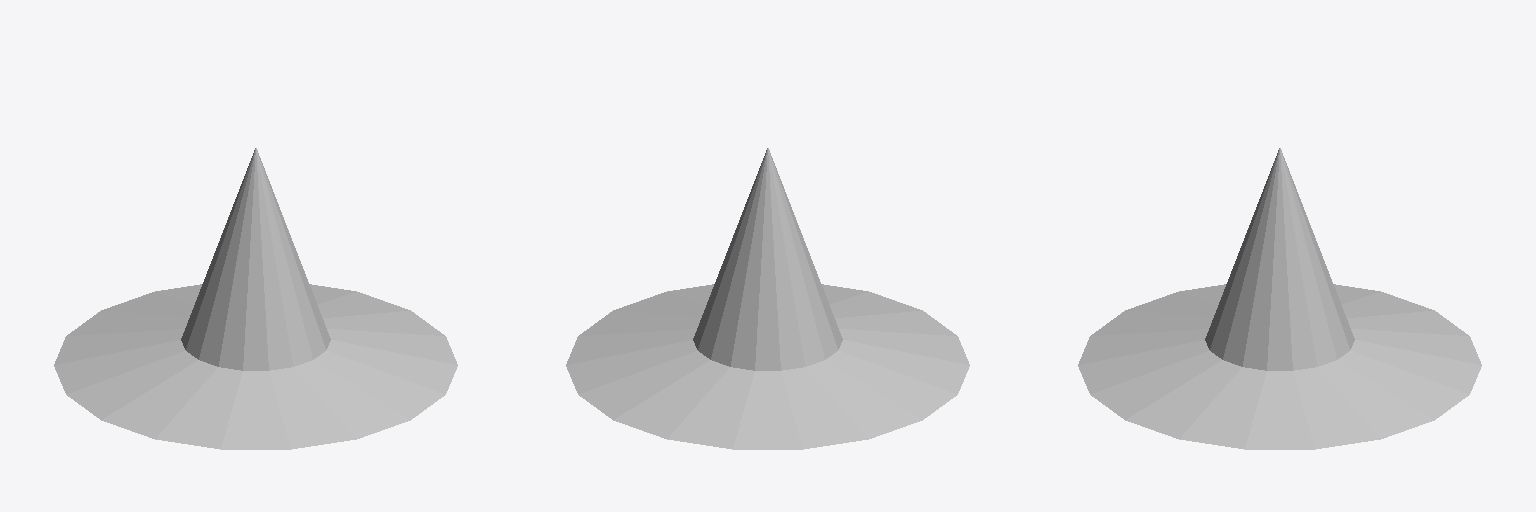
File: MOTL_Player_Hat.obj
The picture shows the model from 3 angles: view 1: azimuth 30°, elevation 25°; view 2: azimuth 150°, elevation 25°; view 3: azimuth 270°, elevation 25°; orthographic projection.
Visible parts, largest first — view 1: Circle; view 2: Circle; view 3: Circle.
Boxes of the visible parts, x1,y1,x2,y2 form: Circle: [54, 148, 457, 449]; Circle: [566, 148, 969, 449]; Circle: [1078, 148, 1481, 449].
Size of the model in its own units: 1.48 by 0.8994 by 1.51.